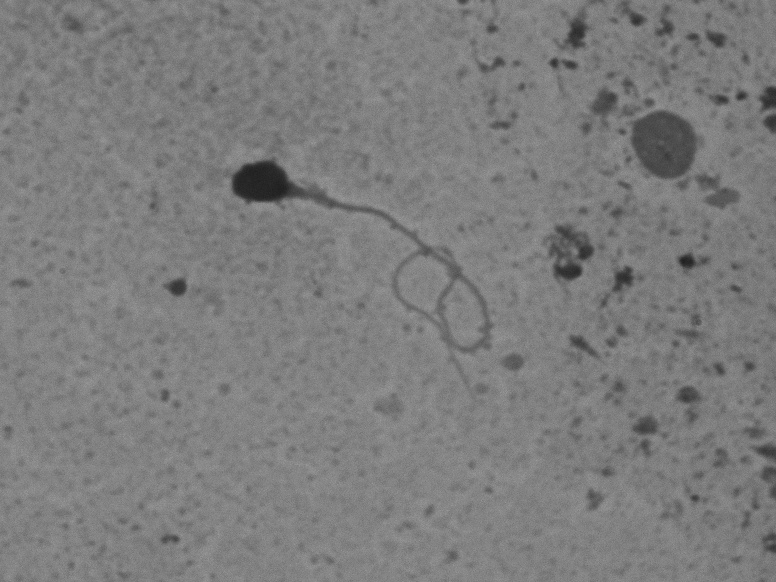Abnormal: (214, 114, 516, 398)
